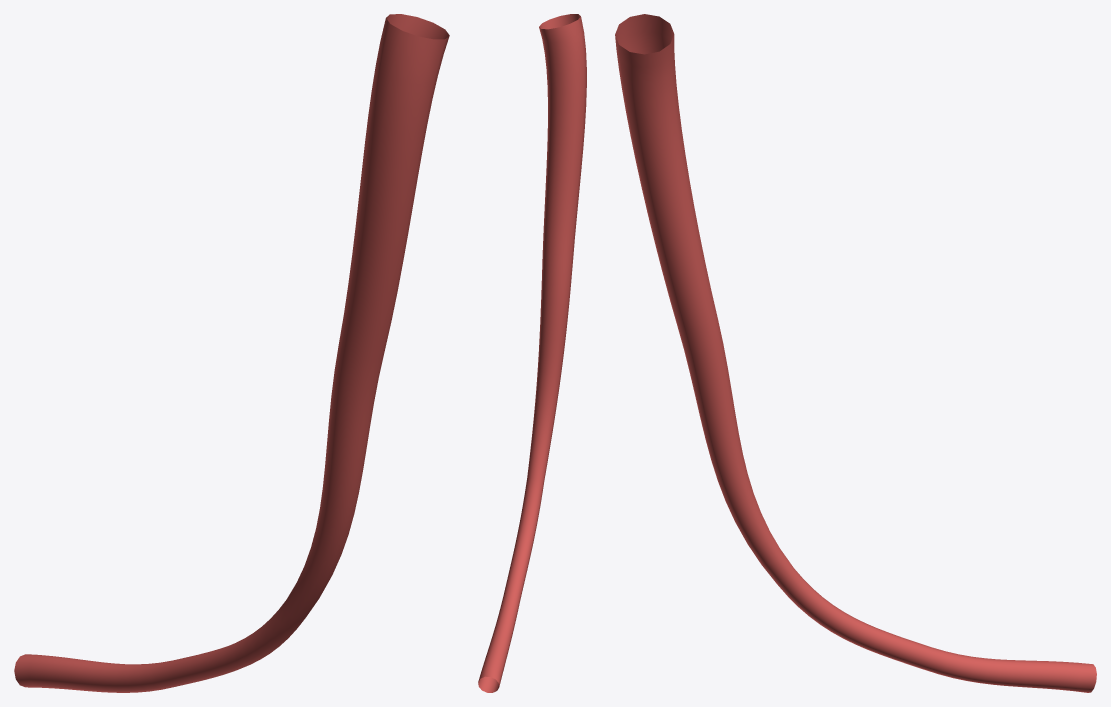
3 renders of one model, left to right at view 1: azimuth 30°, elevation 25°; view 2: azimuth 150°, elevation 25°; view 3: azimuth 270°, elevation 25°, orthographic. The views are drawn at different scales.
Visible parts, largest first — view 1: 左侧眶下动脉; view 2: 左侧眶下动脉; view 3: 左侧眶下动脉.
Boxes of the visible parts, x1,y1,x2,y2 form: 左侧眶下动脉: (14, 14, 449, 692); 左侧眶下动脉: (478, 14, 586, 692); 左侧眶下动脉: (615, 14, 1096, 692).
Bounding box in the file's own units: 0.00934 × 0.0399 × 0.024.
